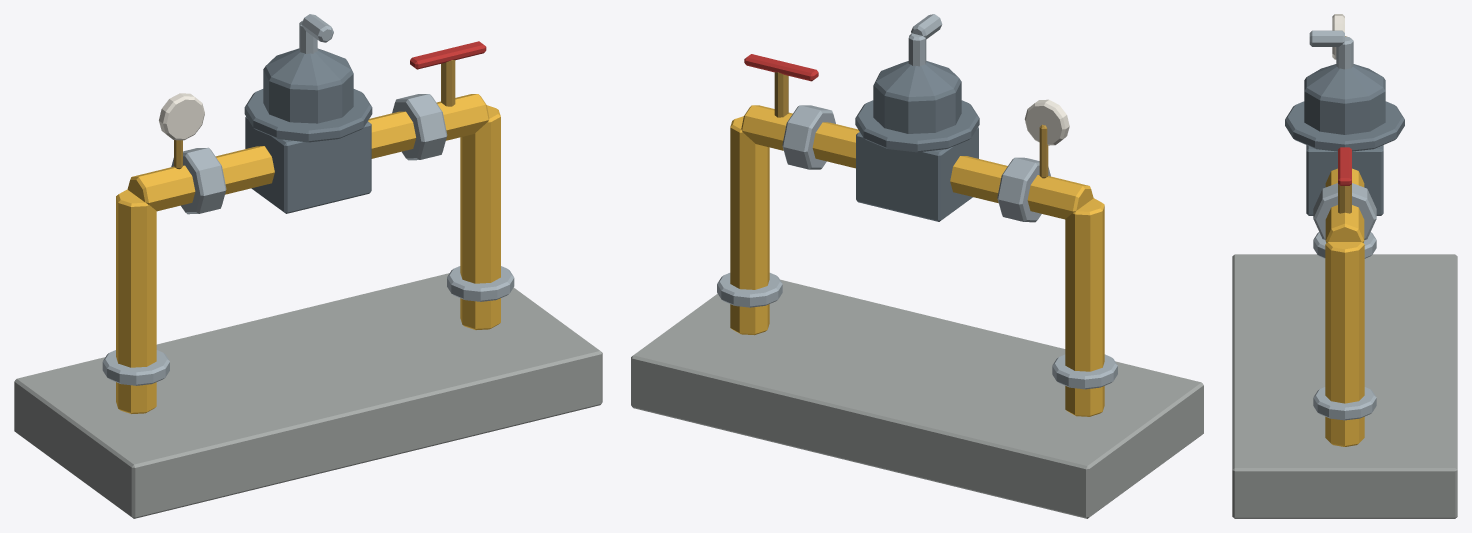
File: b05_gas_pressure_regulator_station.glb
3 renders of one model, left to right at view 1: azimuth 30°, elevation 25°; view 2: azimuth 150°, elevation 25°; view 3: azimuth 270°, elevation 25°, orthographic. The views are drawn at different scales.
Visible parts, largest first — view 1: b05_gas_pressure_regulator_station; view 2: b05_gas_pressure_regulator_station; view 3: b05_gas_pressure_regulator_station.
Part boxes in pixels (x1,y1,x2,y2): b05_gas_pressure_regulator_station: (14, 14, 602, 518); b05_gas_pressure_regulator_station: (631, 14, 1203, 518); b05_gas_pressure_regulator_station: (1232, 14, 1457, 518).
Size of the model in its own units: 1.45 by 1.2 by 0.64.
